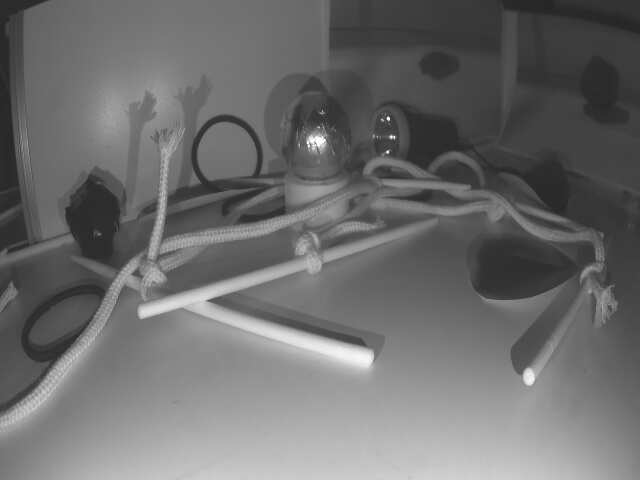Dead: (66, 179, 122, 258)
Live: (278, 88, 351, 182)
